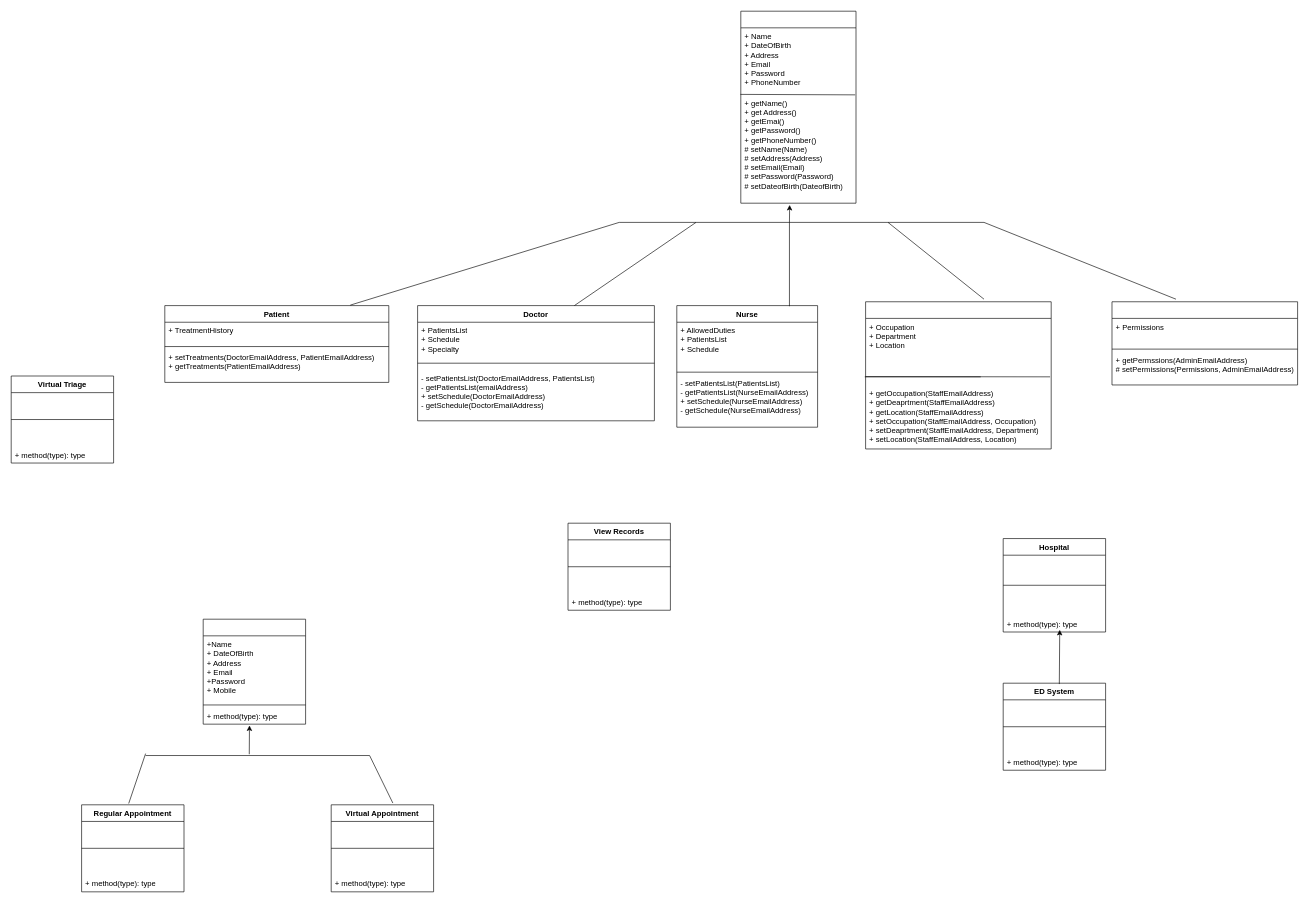
Image size: 1309x905. Some labels were removed from this diagram. Here are the shapes that lost their labels. From the top down, the box of each, then its label:
(740, 11, 856, 203): User
(1111, 301, 1298, 385): System Administrator
(865, 301, 1051, 449): ED Staff
(203, 619, 306, 724): Appointment
